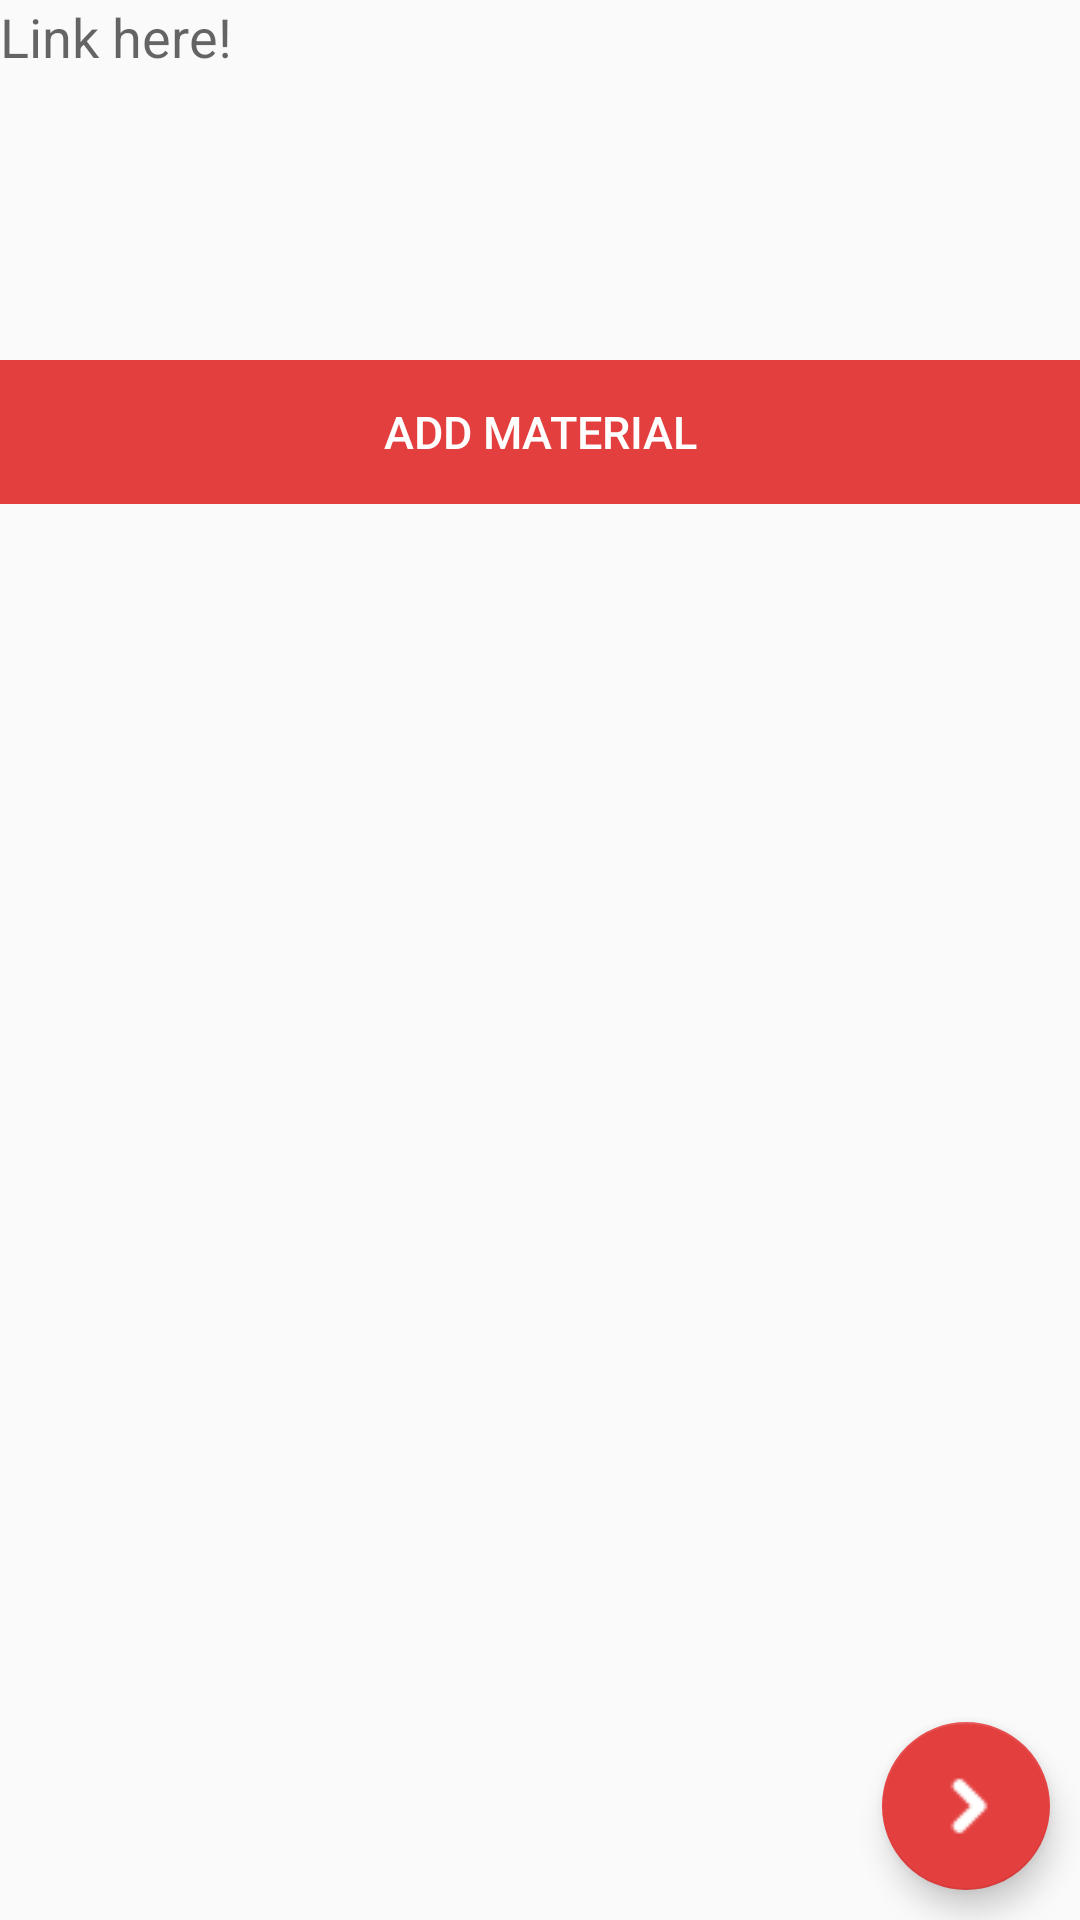

Screen size 1080*1920. Icon name, then its center in pixels as (x=x, y=y):
next: (x=966, y=1806)
